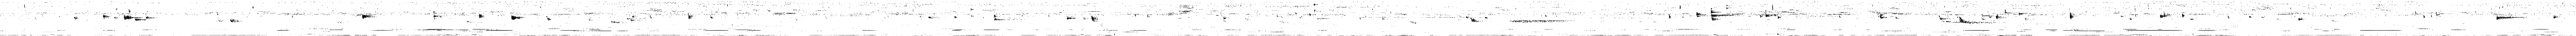meteor: (1710, 13, 1733, 18), (2497, 16, 2525, 20), (1695, 11, 1707, 18), (1958, 16, 1970, 23), (230, 18, 243, 23), (361, 15, 375, 20), (511, 15, 524, 20), (1710, 8, 1723, 13), (123, 15, 135, 20), (1939, 15, 1950, 20), (1091, 15, 1099, 21), (1766, 11, 1774, 18), (146, 15, 156, 20), (1470, 18, 1480, 23), (1710, 16, 1720, 21), (434, 11, 440, 18), (102, 15, 110, 20), (135, 18, 146, 21), (478, 13, 485, 18), (1066, 16, 1076, 20), (2070, 13, 2075, 20), (2160, 15, 2170, 18), (994, 18, 1005, 20), (547, 16, 552, 20)
